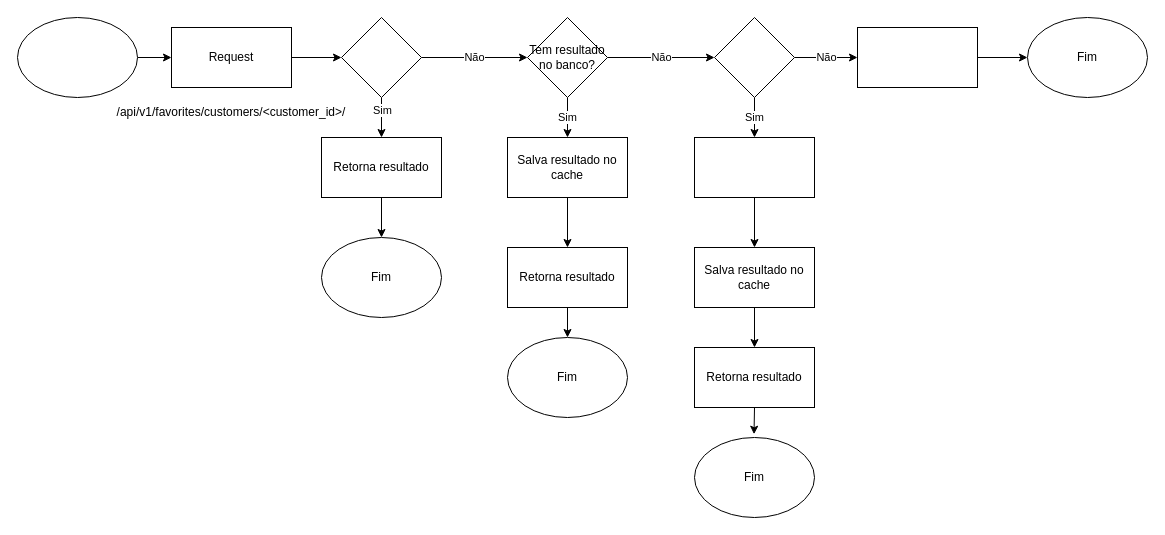
This 1165x535 diagram has some shape labels left out. The shapes that lost their labels are listed below. From the top down, each one's centre as x and y in pixels, then its label:
At point (77, 57): "Início".
At point (381, 57): "Tem resultado no cache?".
At point (754, 57): "Tem resultado na API?".
At point (917, 57): "Informa que não existe produto".
At point (754, 167): "Salva resultado no banco".
